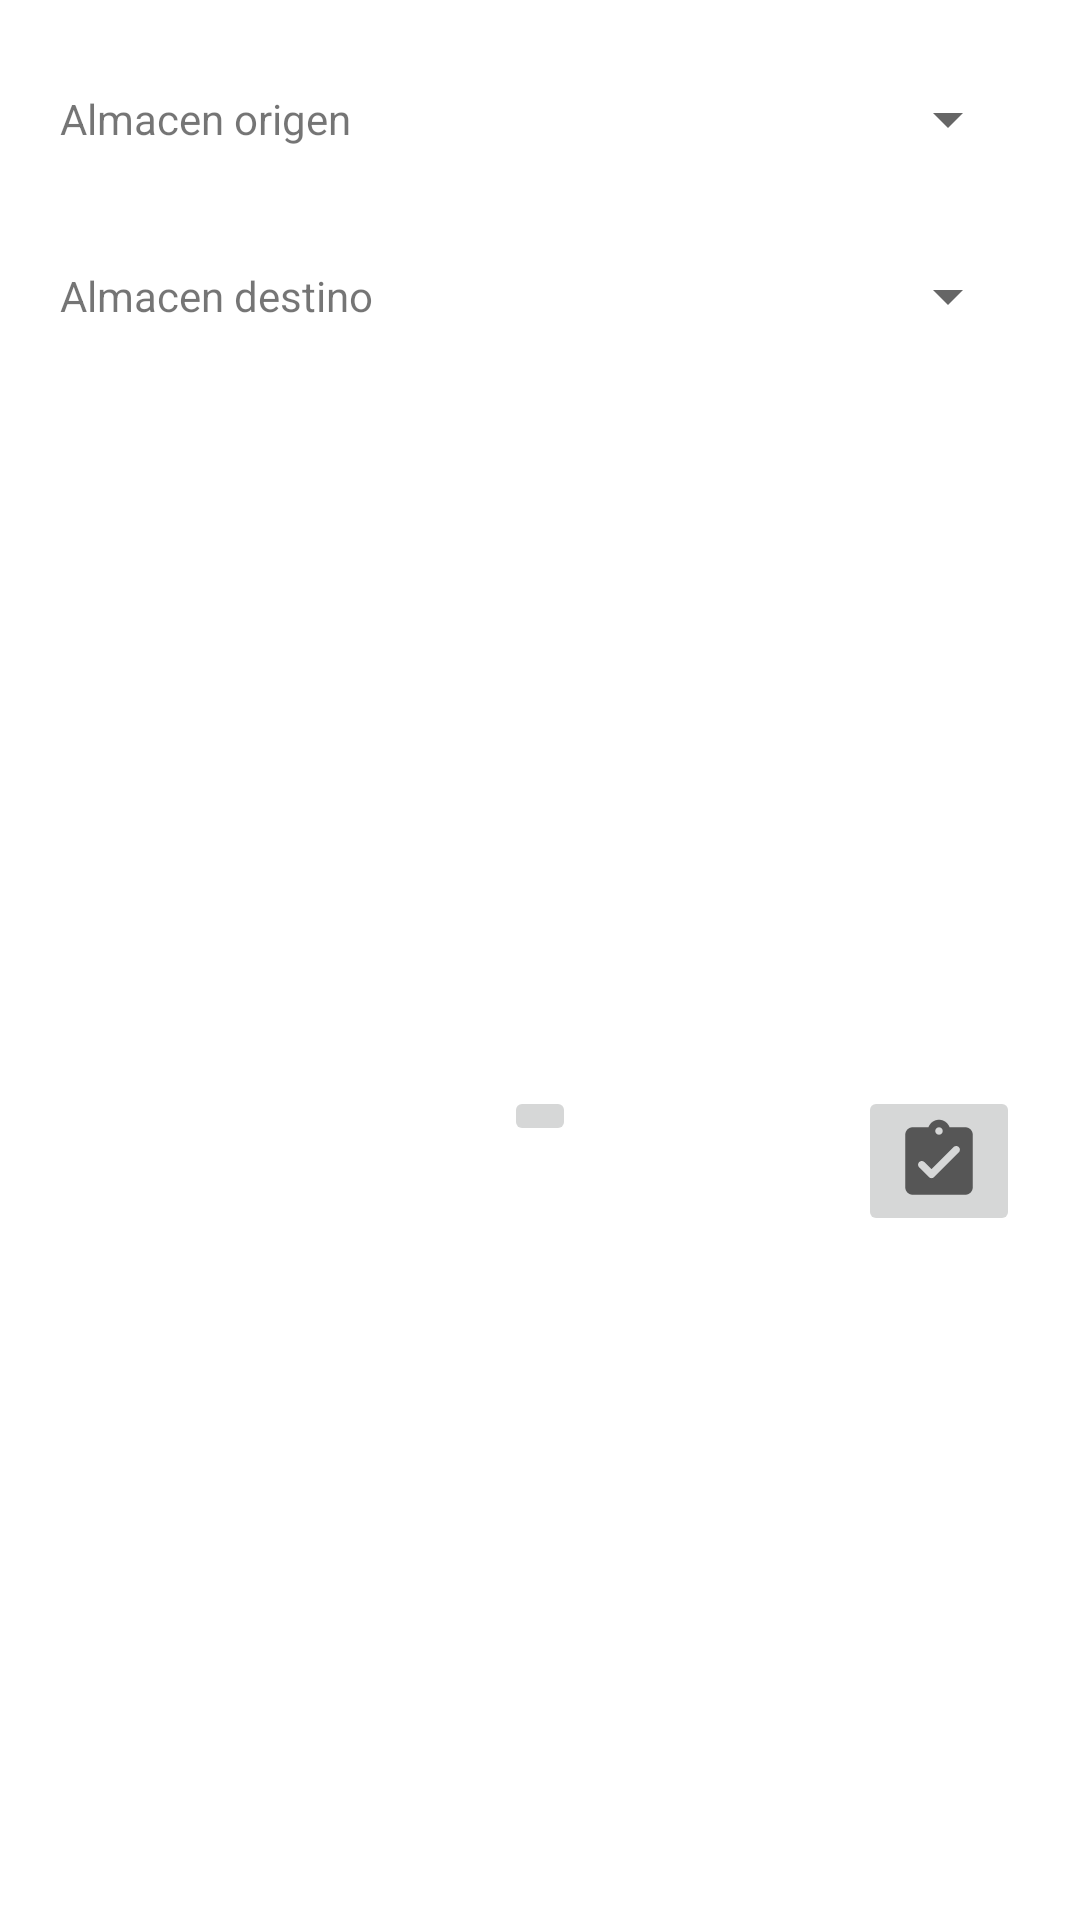

Where icons sit on this 1080x1920 app screen, as box=[x1, y1, x2, y2]:
assignment turned in: box=[870, 1104, 1008, 1218]
